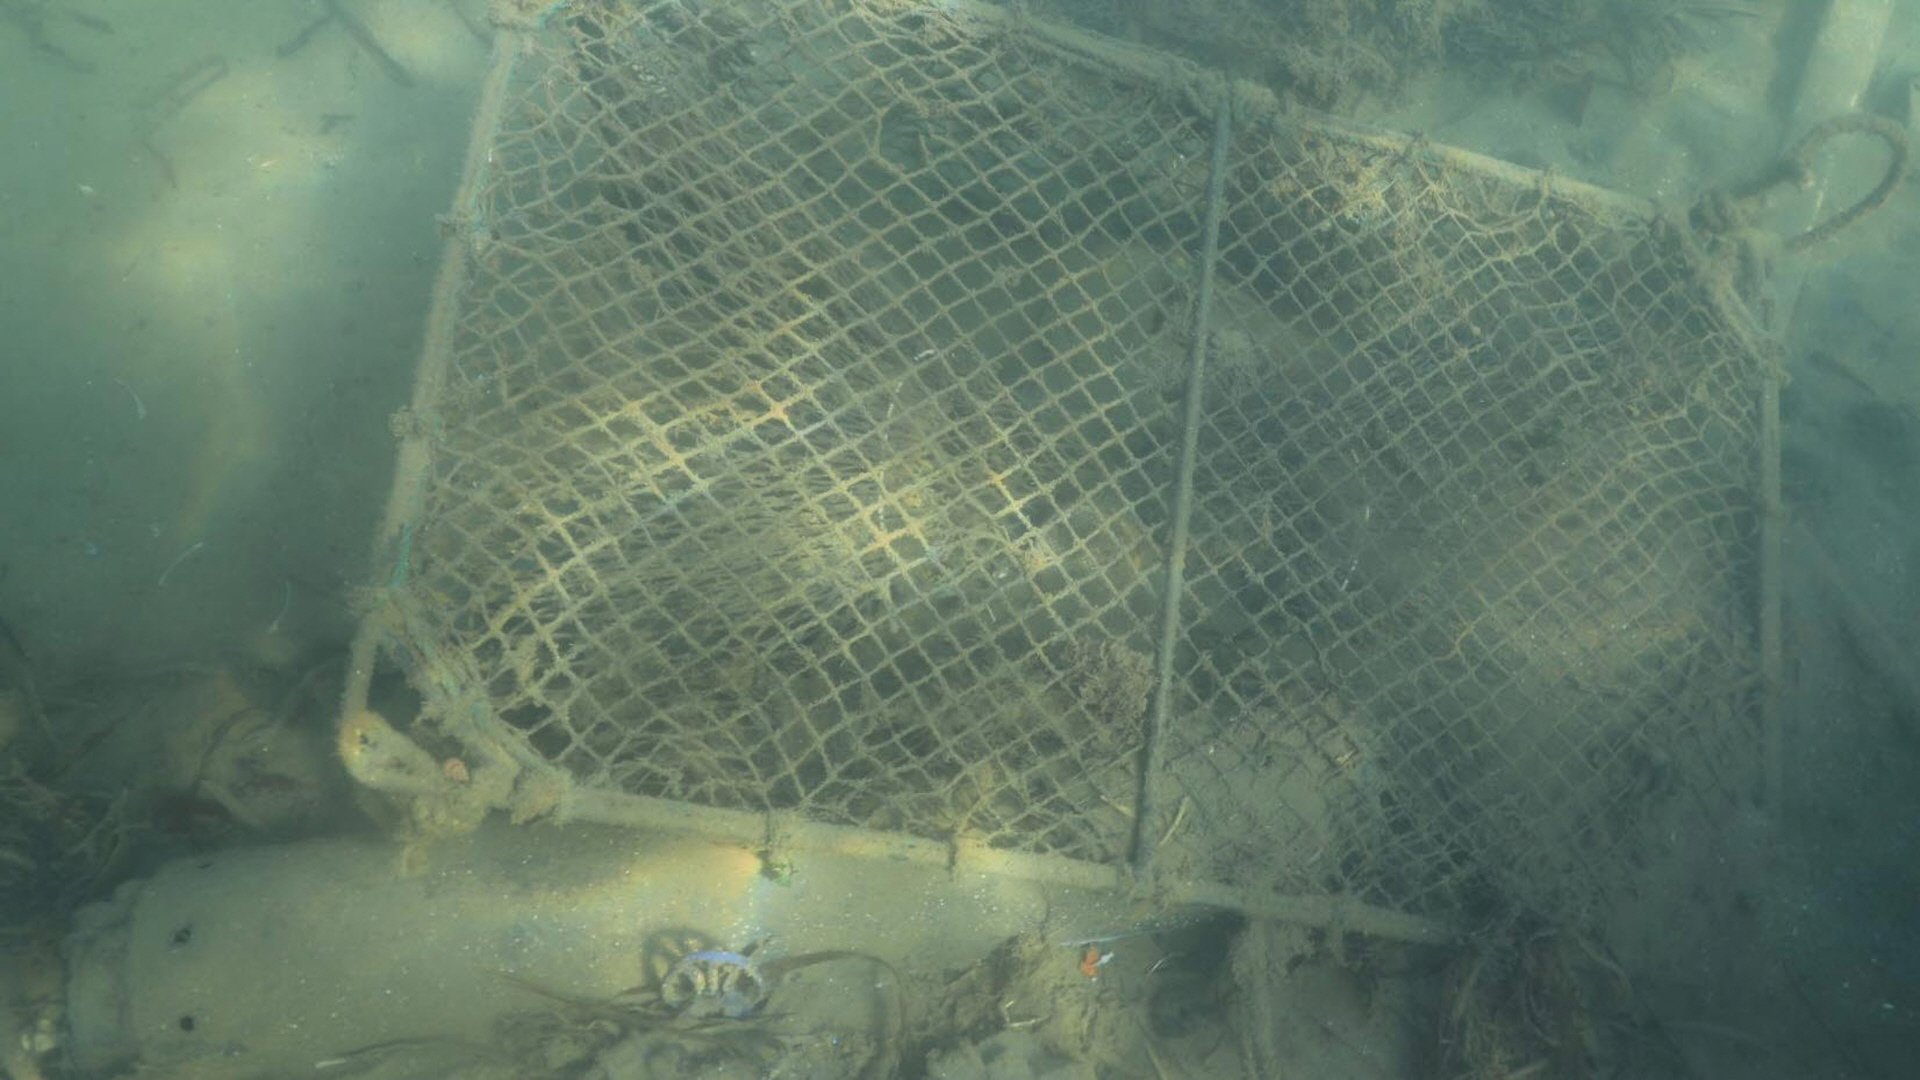eel fish trap: (65, 837, 1224, 1080)
rectangular fish trap: (332, 0, 1780, 963)
rope: (1691, 112, 1909, 262)
